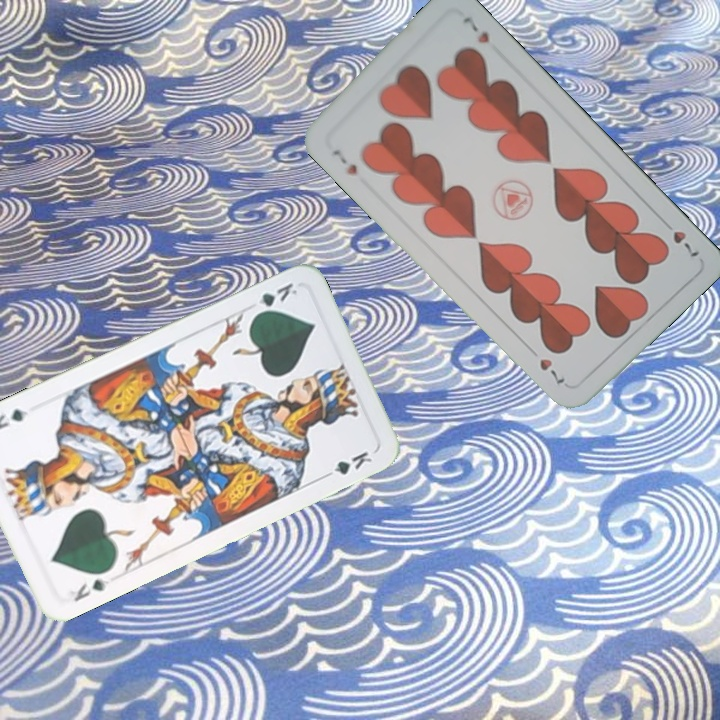GK: (249, 278, 300, 319), (66, 574, 112, 604)
H7: (656, 214, 702, 260), (328, 144, 360, 178)
